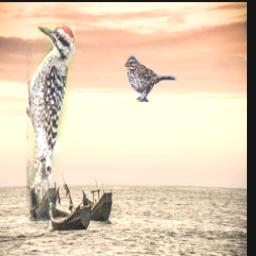Sparrow: (124, 55, 177, 103)
Woodpecker: (26, 24, 75, 225)
